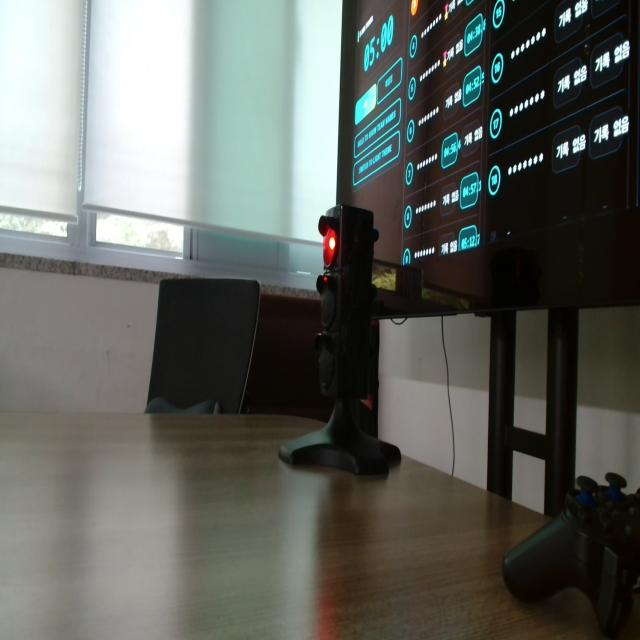red_light: (323, 229, 337, 267)
